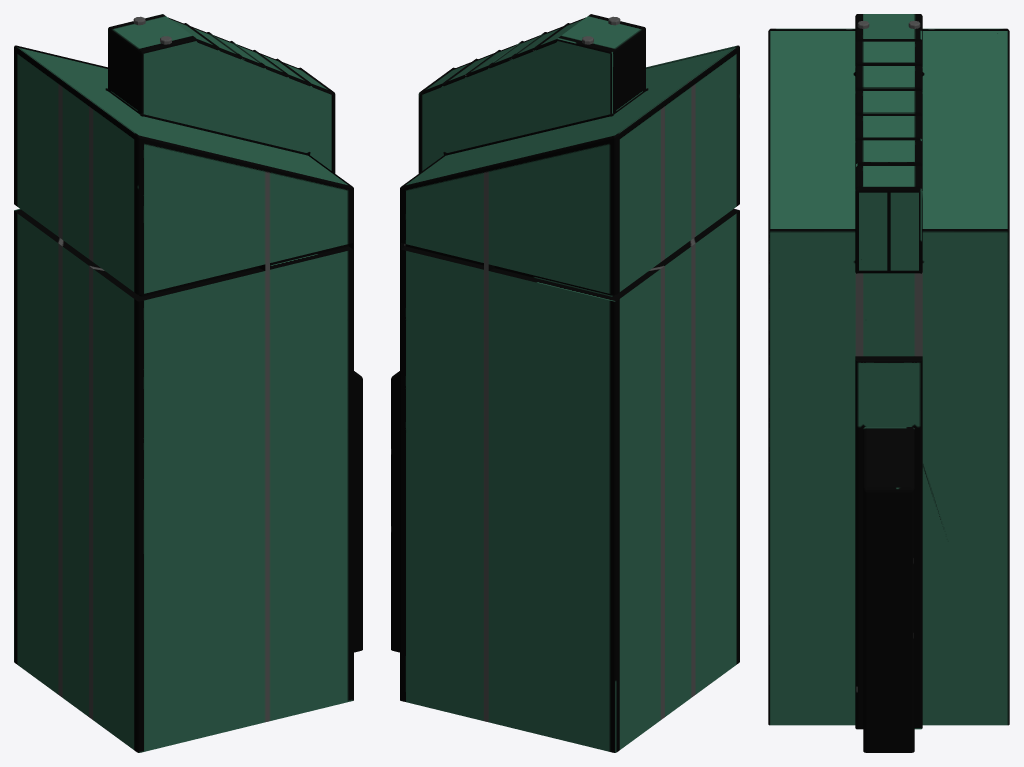
File: CityAppartments2.fbx
The picture shows the model from 3 angles, left to right: view 1: azimuth 30°, elevation 25°; view 2: azimuth 150°, elevation 25°; view 3: azimuth 270°, elevation 25°; orthographic projection. The views are drawn at different scales.
Visible parts, largest first — view 1: ApartmentBuilding; view 2: ApartmentBuilding; view 3: ApartmentBuilding.
Part boxes in pixels (left/top/right/bottom): ApartmentBuilding: left=14, top=14, right=362, bottom=752; ApartmentBuilding: left=391, top=14, right=739, bottom=752; ApartmentBuilding: left=768, top=14, right=1009, bottom=752.
Size of the model in its own units: 254 by 583 by 200.
